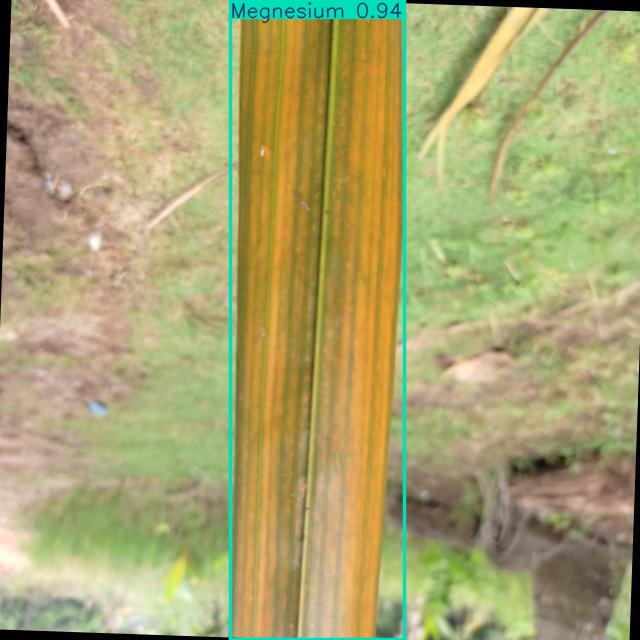Megnesium: (231, 0, 405, 640)
